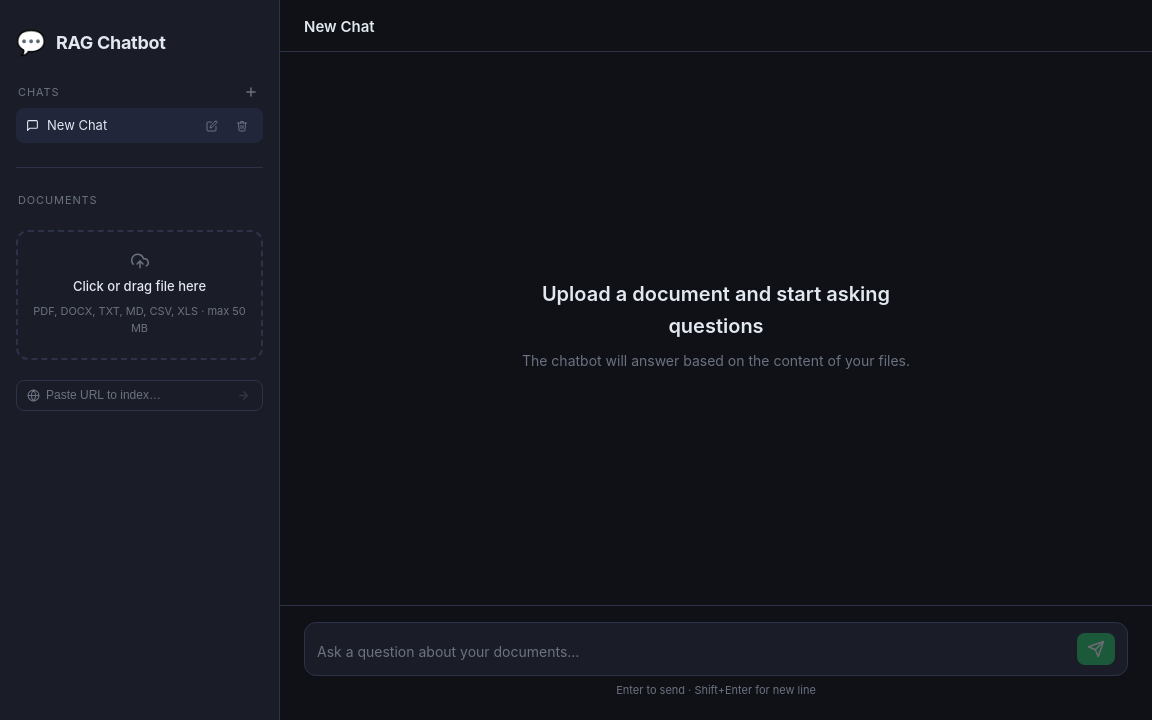
document chat workflow › clearing an active reply cancels it and does not recreate the removed messages
The width and height of the screenshot is (1152, 720).
Expected: the text with class "chat-title" reads "New Chat", [304, 16, 374, 36]
Type "Explain the launch" into the text box with placeholder "Ask a question about your documents…" at (692, 653), box [317, 641, 1067, 665]
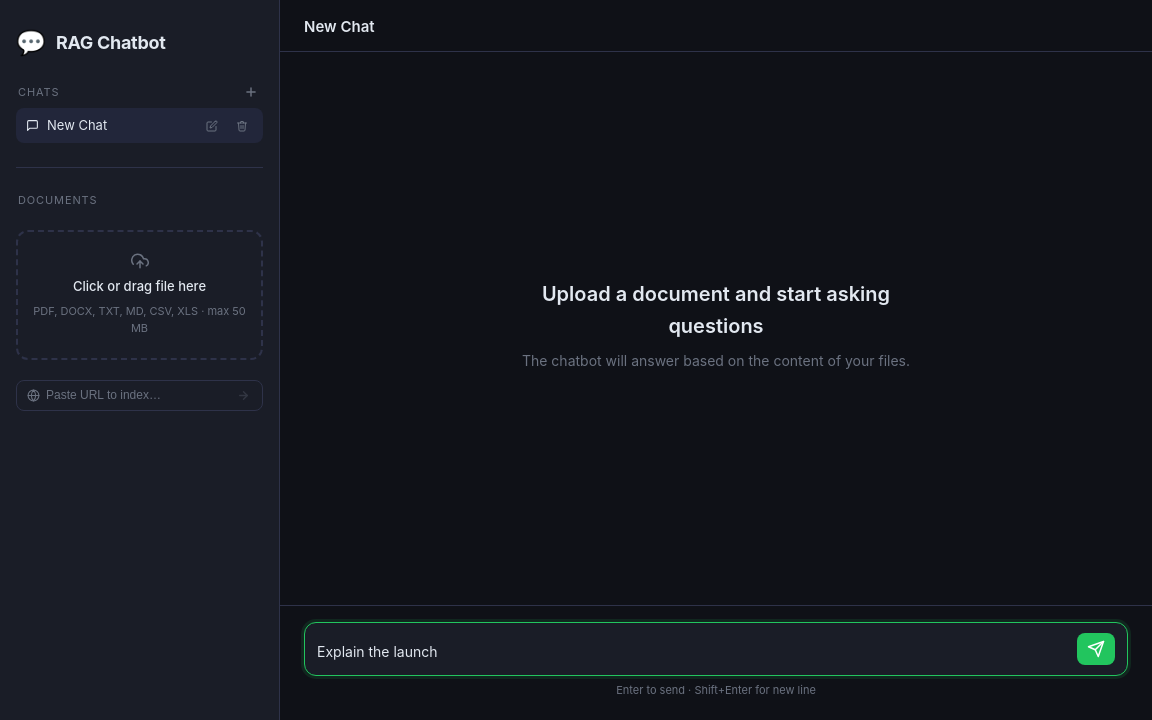
Click the button named "Send" at (1096, 649), box [1077, 633, 1115, 665]
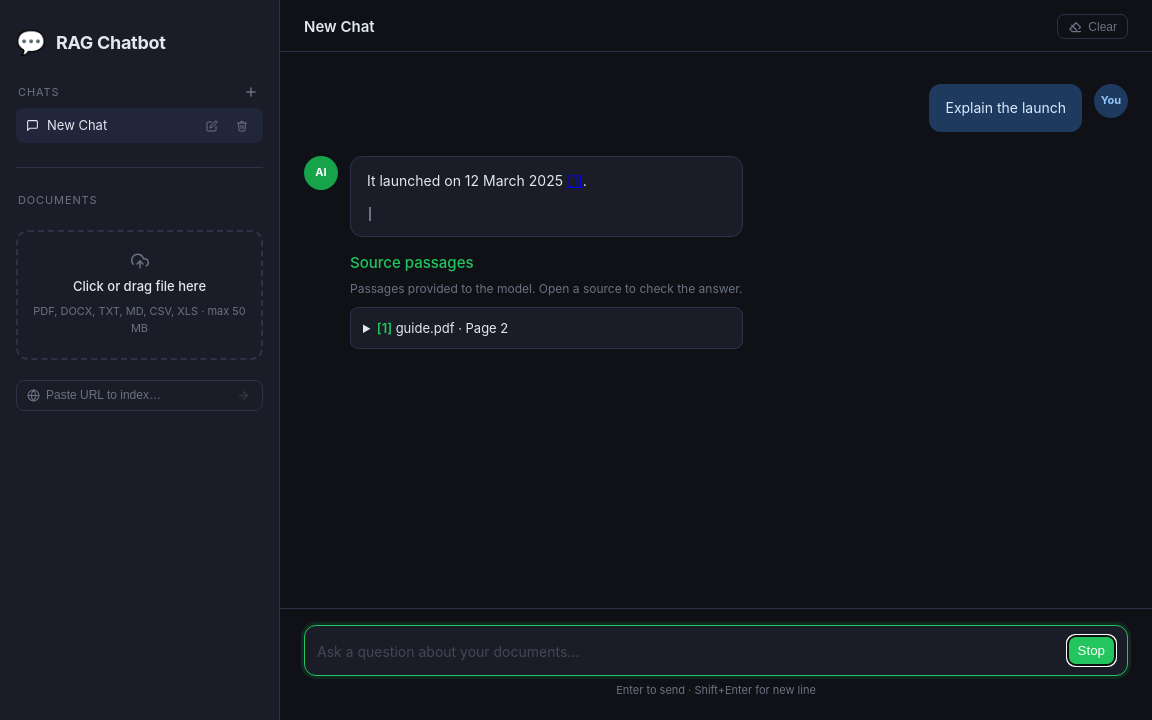
Now the link named "View source 1" is shown, box [567, 172, 583, 189]
Click the button "Clear" at (1093, 26), box [1057, 14, 1128, 39]
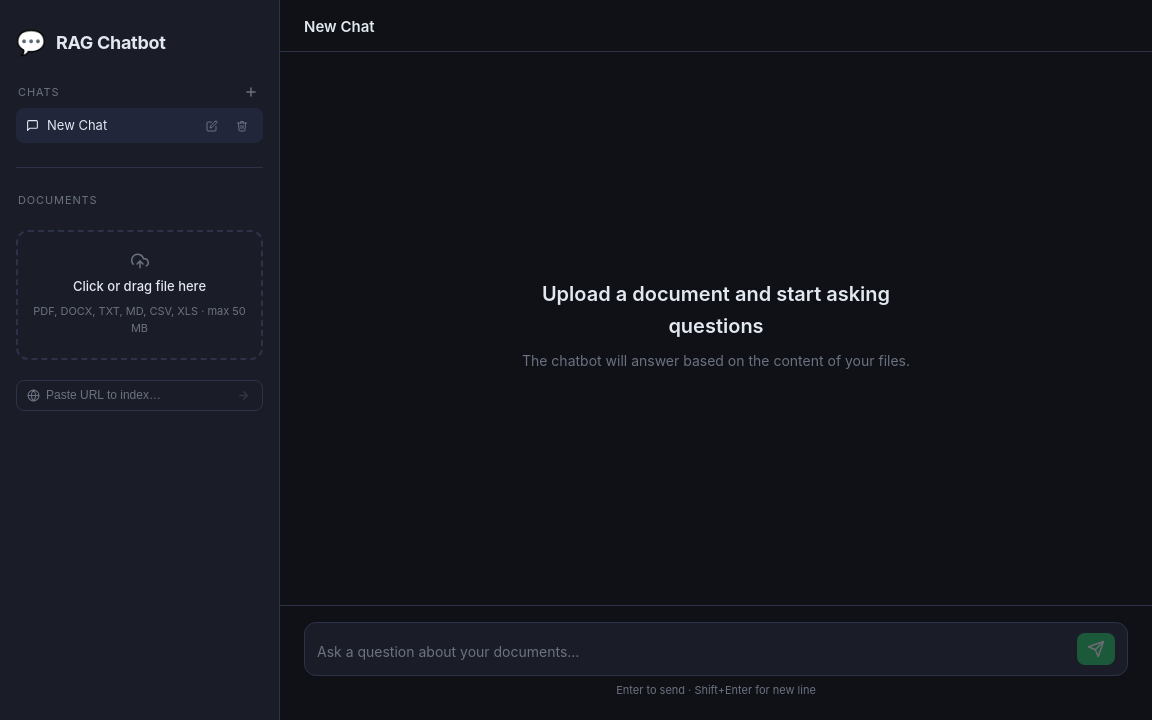
Now the text "Upload a document and start asking questions" is shown, box [516, 278, 916, 342]
Now no elements with class "message" are shown
